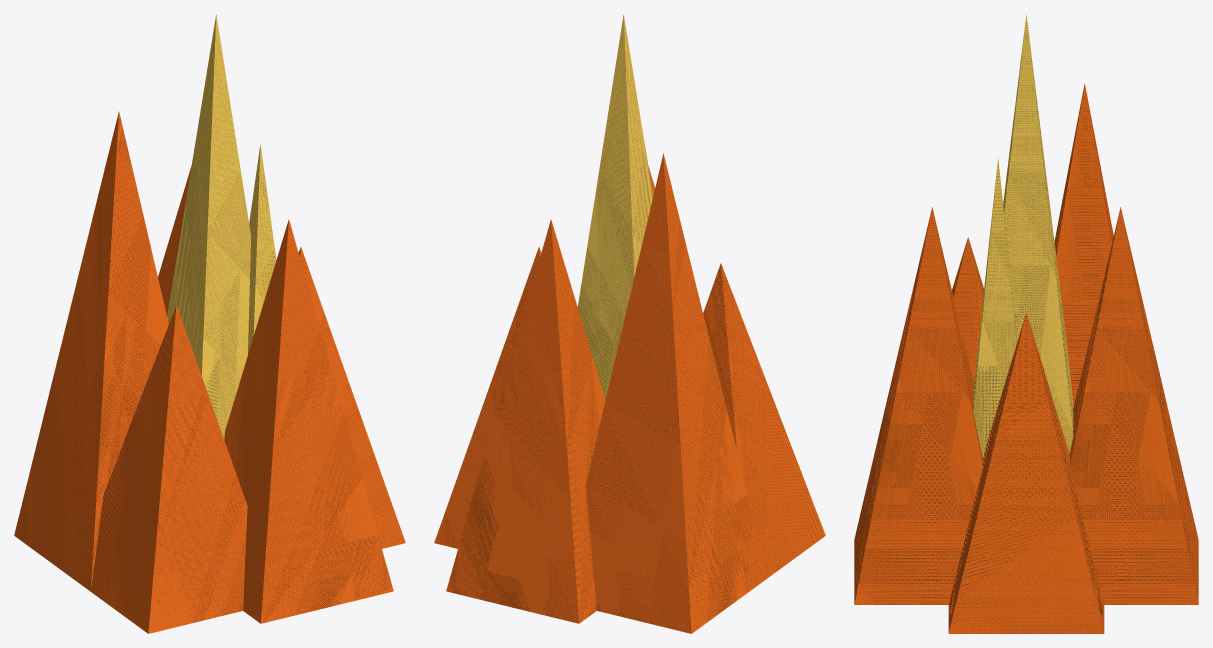
File: flames.dae
3 renders of one model, left to right at view 1: azimuth 30°, elevation 25°; view 2: azimuth 150°, elevation 25°; view 3: azimuth 270°, elevation 25°, orthographic.
Parts seen in each view (by area): view 1: marker; view 2: marker; view 3: marker.
Boxes of the visible parts, x1,y1,x2,y2 form: marker: (14,15,405,633); marker: (434,15,825,633); marker: (854,14,1198,633).
Bounding box in the file's own units: 0.4733 × 0.4862 × 0.85.
Materials: 1 (1 with a texture image).
